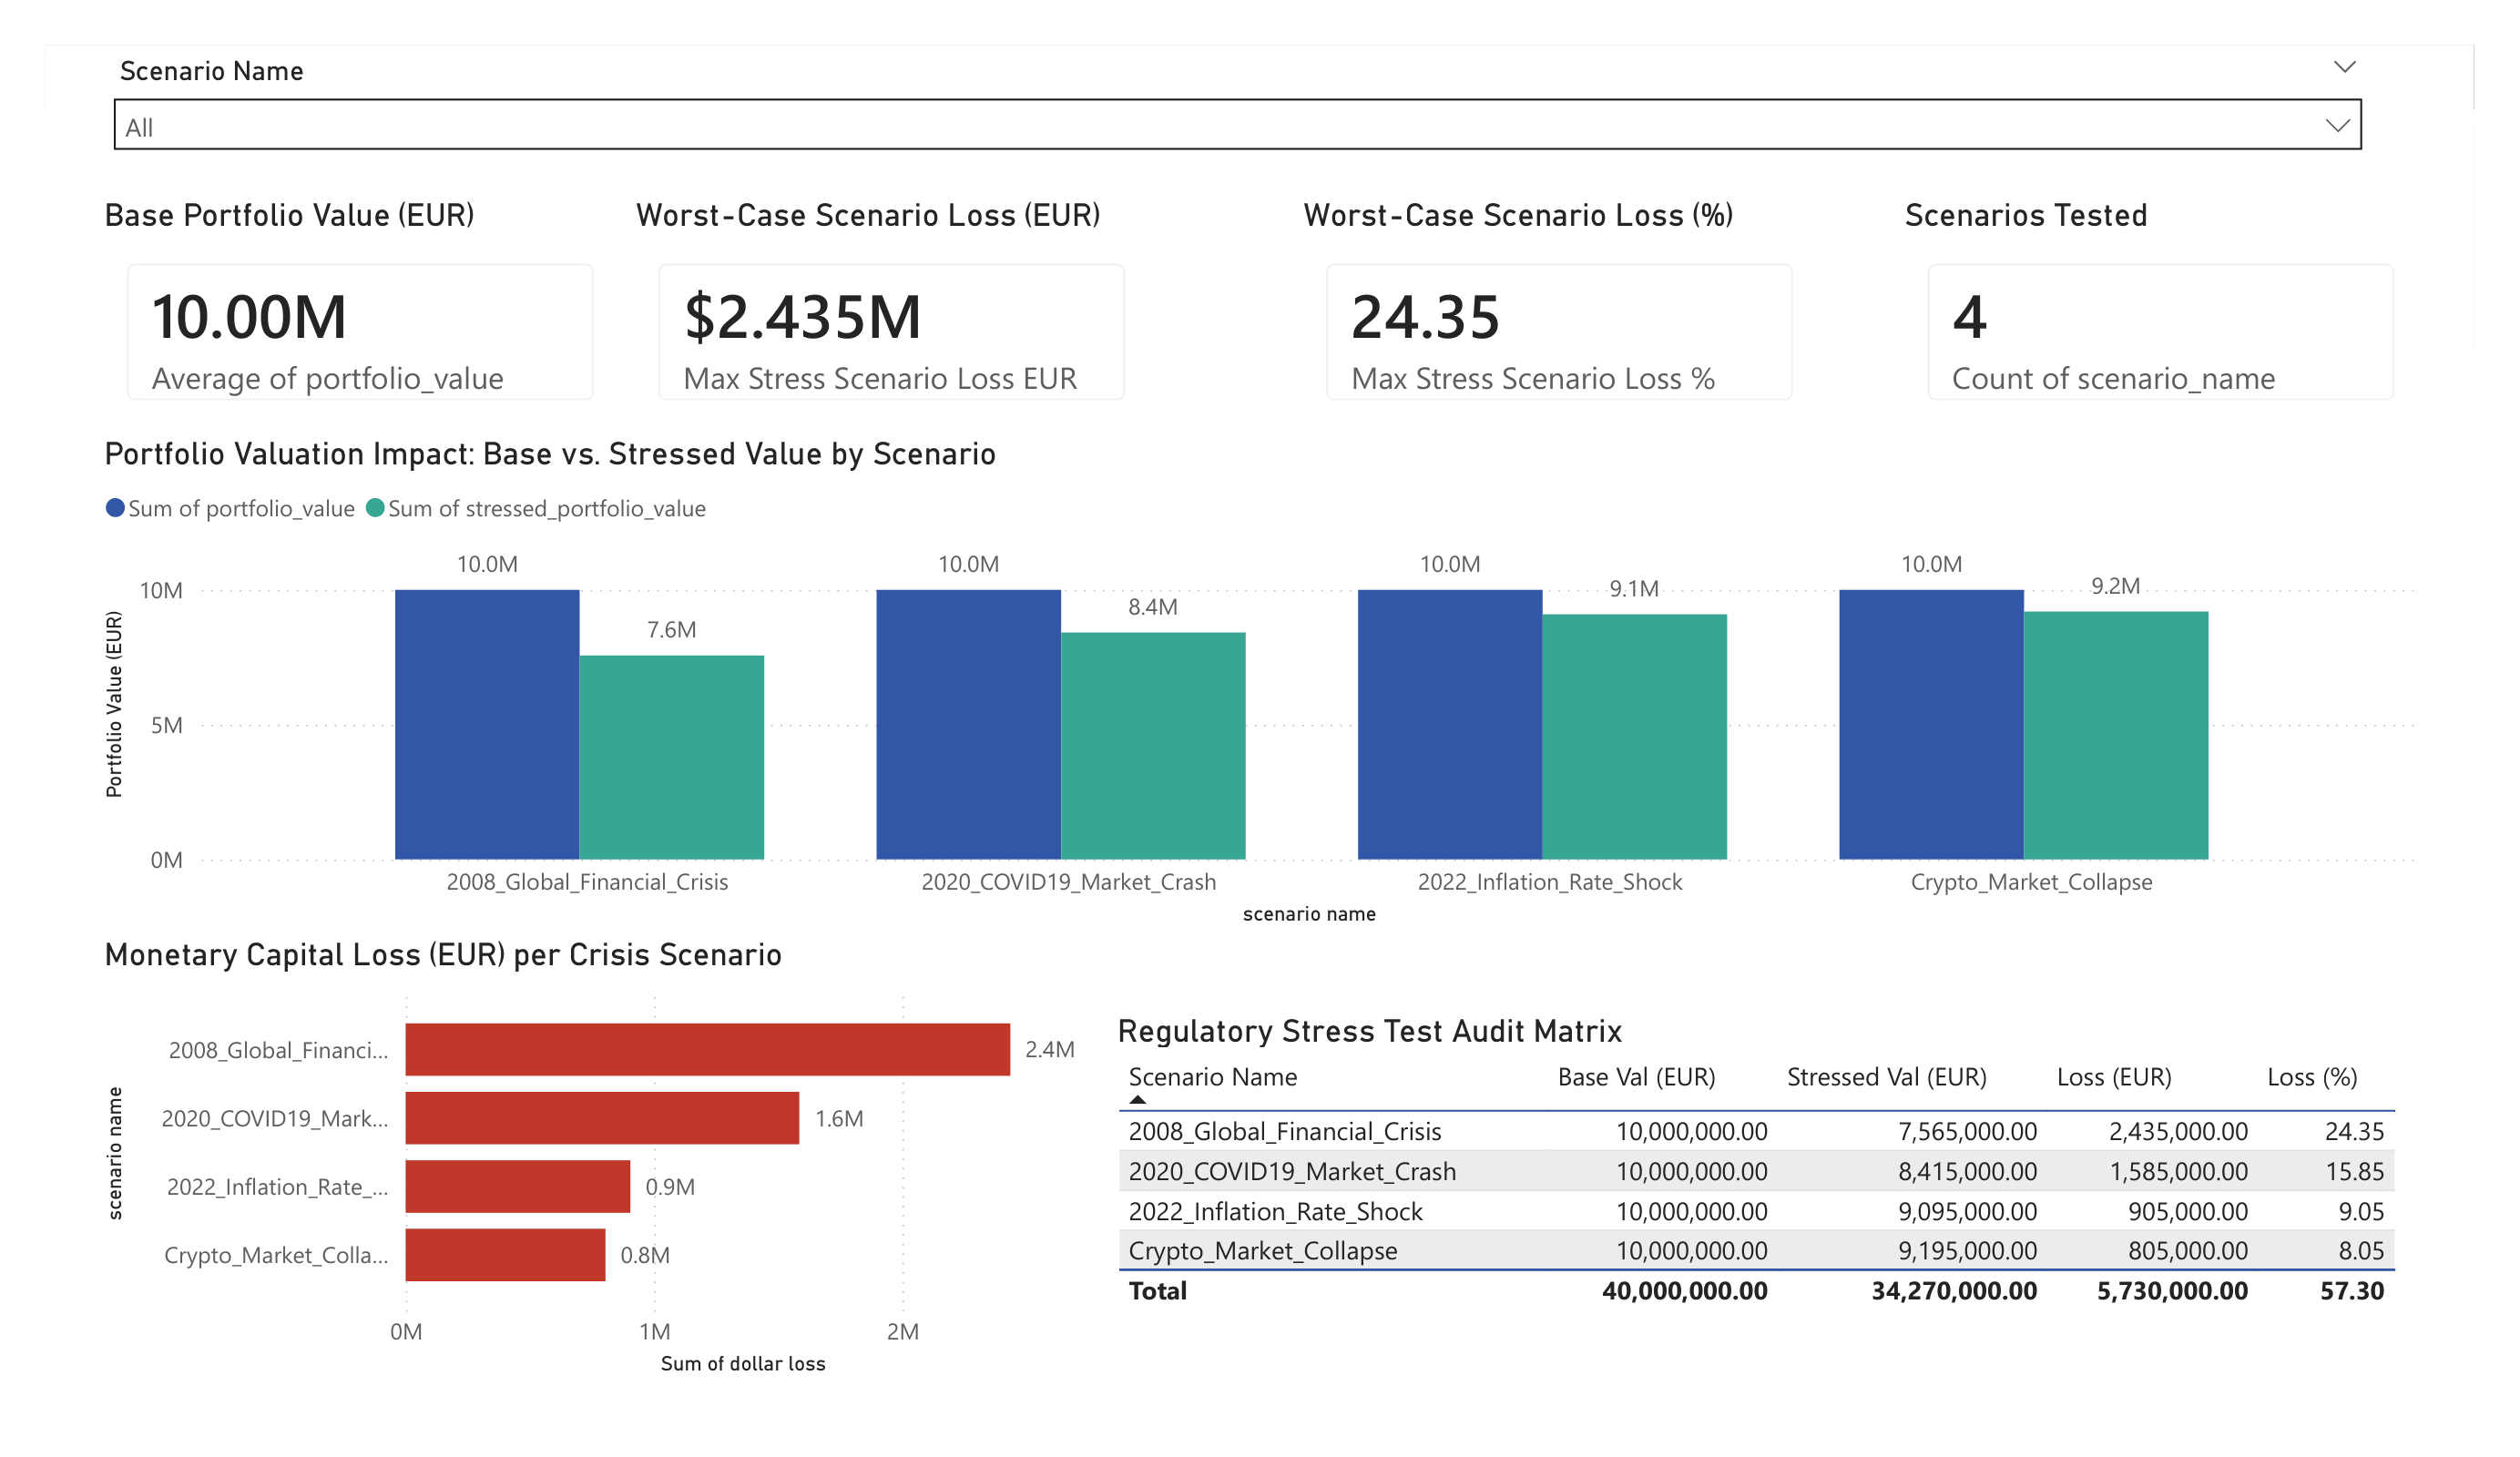

What the dashboard file says about the page in this screenshot:
{"tool":"powerbi","page":{"name":"2. Stress Testing & Scenarios","canvas":[1280,720],"ordinal":1},"visuals":[{"type":"cardVisual","title":"Base Portfolio Value (EUR)","fields":{"Data":["Avg(vw_stress_test_reporting.portfolio_value)"]},"box":[26,79.4,279.9,125.5],"z":0},{"type":"cardVisual","title":"Worst-Case Scenario Loss (EUR)","fields":{"Data":["_Key Risk Measures.Max Stress Scenario Loss EUR"]},"box":[305.9,79.4,279.9,125.5],"z":1000},{"type":"cardVisual","title":"Worst-Case Scenario Loss (%)","fields":{"Data":["_Key Risk Measures.Max Stress Scenario Loss %"]},"box":[657.9,79.4,279.9,125.5],"z":2000},{"type":"cardVisual","title":"Scenarios Tested","fields":{"Data":["Count(vw_stress_test_reporting.scenario_name)"]},"box":[975.3,79.4,279.9,125.5],"z":3000},{"type":"clusteredColumnChart","title":"Portfolio Valuation Impact: Base vs. Stressed Value by Scenario","fields":{"Category":["vw_stress_test_reporting.scenario_name"],"Y":["Sum(vw_stress_test_reporting.portfolio_value)","Sum(vw_stress_test_reporting.stressed_portfolio_value)"]},"box":[26,204.9,1229.2,264],"z":4000},{"type":"clusteredBarChart","title":"Monetary Capital Loss (EUR) per Crisis Scenario","fields":{"Category":["vw_stress_test_reporting.scenario_name"],"Y":["Sum(vw_stress_test_reporting.dollar_loss)"]},"box":[26,468.9,533.8,236.6],"z":5000},{"type":"tableEx","title":"Regulatory Stress Test Audit Matrix","fields":{"Values":["vw_stress_test_reporting.scenario_name","Sum(vw_stress_test_reporting.portfolio_value)","Sum(vw_stress_test_reporting.stressed_portfolio_value)","Sum(vw_stress_test_reporting.dollar_loss)","Sum(vw_stress_test_reporting.percentage_loss)"]},"box":[559.8,509.3,695.4,176],"z":6000},{"type":"slicer","fields":{"Values":["vw_stress_test_reporting.scenario_name"]},"box":[26,0,1204.7,79.4],"z":6001}]}

Visuals, with their boxes on the page's 1280x720 design canvas (x1, y1, x2, y2). These are canvas units, not pixel positions in the 2520x1457 screenshot, which may show the page scaled, cropped or inside an application window:
"Base Portfolio Value (EUR)" cardVisual: [x1=26, y1=79, x2=306, y2=205]
"Worst-Case Scenario Loss (EUR)" cardVisual: [x1=306, y1=79, x2=586, y2=205]
"Worst-Case Scenario Loss (%)" cardVisual: [x1=658, y1=79, x2=938, y2=205]
"Scenarios Tested" cardVisual: [x1=975, y1=79, x2=1255, y2=205]
"Portfolio Valuation Impact: Base vs. Stressed Value by Scenario" clusteredColumnChart: [x1=26, y1=205, x2=1255, y2=469]
"Monetary Capital Loss (EUR) per Crisis Scenario" clusteredBarChart: [x1=26, y1=469, x2=560, y2=706]
"Regulatory Stress Test Audit Matrix" tableEx: [x1=560, y1=509, x2=1255, y2=685]
slicer - vw_stress_test_reporting.scenario_name: [x1=26, y1=0, x2=1231, y2=79]
